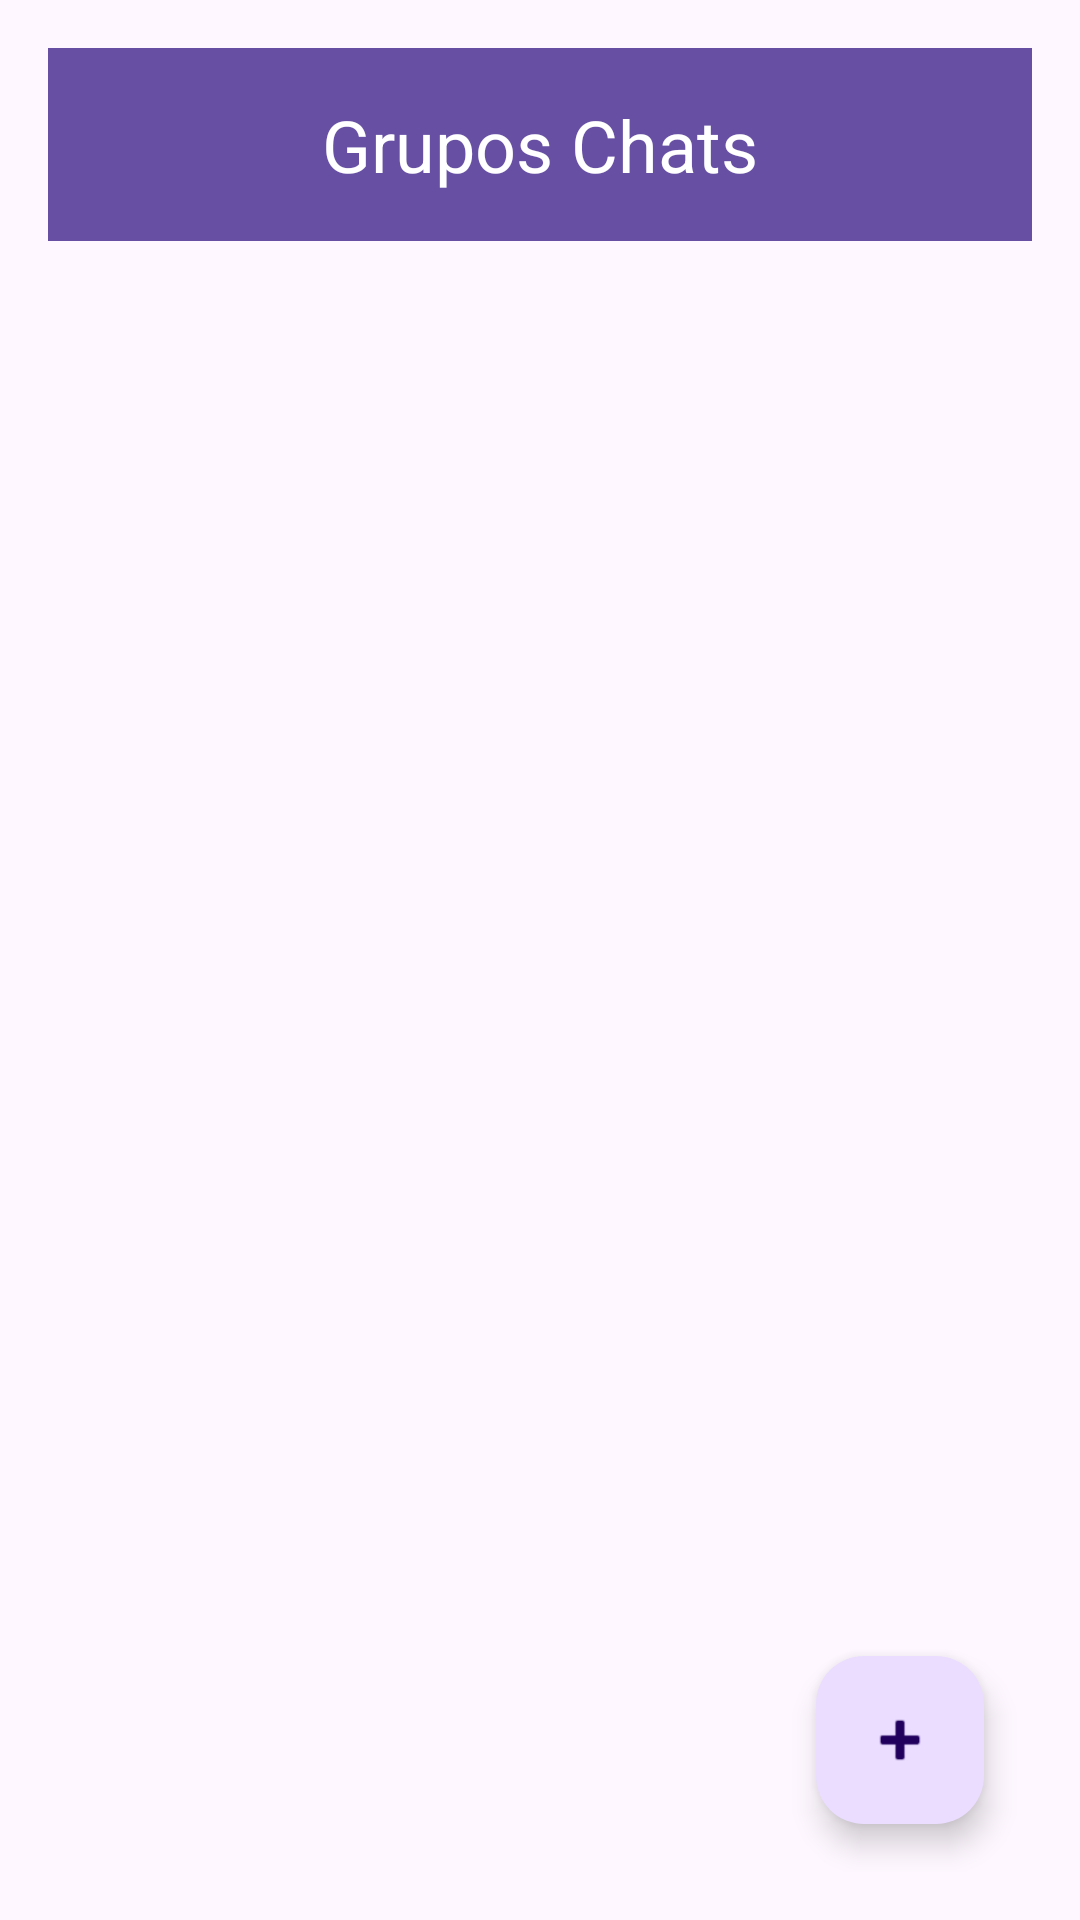

Icons on this 1080px x 1920px Android screen, each with the point to tap as [x,y]:
Agregar chat: [900,1740]
